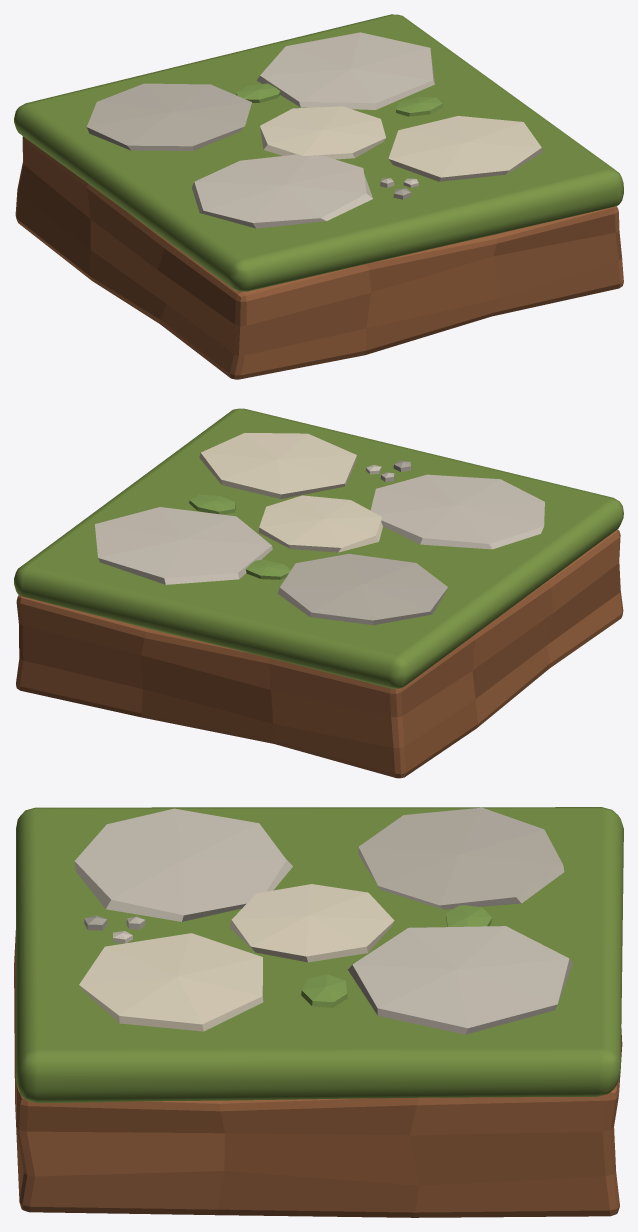
Rendered from tile_flagstone.glb.
The picture shows the model from 3 angles, top to bottom: view 1: azimuth 30°, elevation 25°; view 2: azimuth 150°, elevation 25°; view 3: azimuth 270°, elevation 25°; orthographic projection. The views are drawn at different scales.
Parts seen in each view (by area): view 1: flagstone_cap, flagstone_body, flagstone_3, flagstone_0, flagstone_2, flagstone_1, flagstone_4, flagstone_moss_1, flagstone_moss_0; view 2: flagstone_cap, flagstone_body, flagstone_3, flagstone_0, flagstone_2, flagstone_1, flagstone_4, flagstone_moss_1, flagstone_moss_0; view 3: flagstone_cap, flagstone_body, flagstone_3, flagstone_0, flagstone_2, flagstone_1, flagstone_4, flagstone_moss_1, flagstone_moss_0.
Part boxes in pixels (x1,y1,x2,y2): flagstone_cap: (14, 14, 623, 291); flagstone_body: (15, 136, 623, 379); flagstone_3: (257, 32, 434, 109); flagstone_0: (192, 154, 372, 228); flagstone_2: (87, 83, 251, 150); flagstone_1: (388, 116, 542, 181); flagstone_4: (260, 106, 385, 159); flagstone_moss_1: (396, 97, 443, 116); flagstone_moss_0: (235, 83, 280, 102); flagstone_cap: (14, 408, 623, 688); flagstone_body: (16, 529, 623, 778); flagstone_3: (95, 507, 272, 584); flagstone_0: (370, 474, 544, 549); flagstone_2: (277, 553, 447, 625); flagstone_1: (199, 433, 356, 498); flagstone_4: (258, 495, 382, 552); flagstone_moss_1: (189, 494, 235, 514); flagstone_moss_0: (245, 559, 290, 579); flagstone_cap: (16, 807, 623, 1102); flagstone_body: (14, 930, 622, 1217); flagstone_3: (348, 926, 572, 1034); flagstone_0: (74, 808, 292, 921); flagstone_2: (358, 807, 564, 909); flagstone_1: (79, 933, 263, 1031); flagstone_4: (229, 884, 394, 962); flagstone_moss_1: (301, 974, 347, 1007); flagstone_moss_0: (446, 905, 492, 926).
Bounding box in the file's own units: 1.71 × 0.558 × 1.71.
